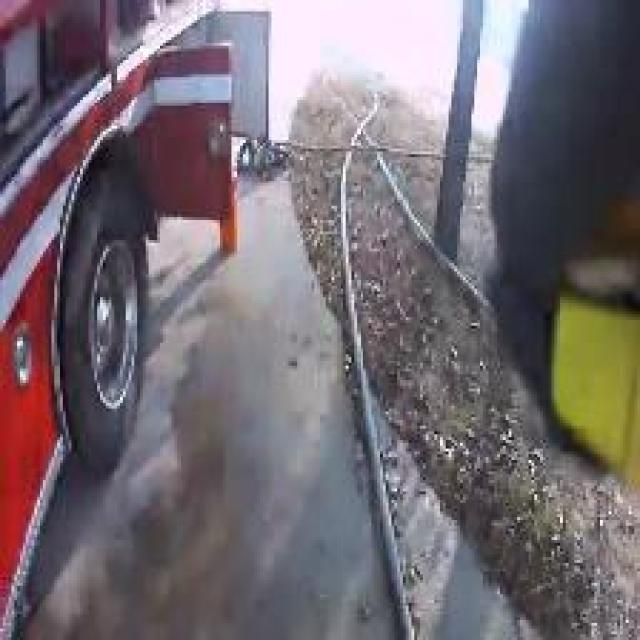other: (101, 44, 253, 228), (517, 288, 634, 446)
